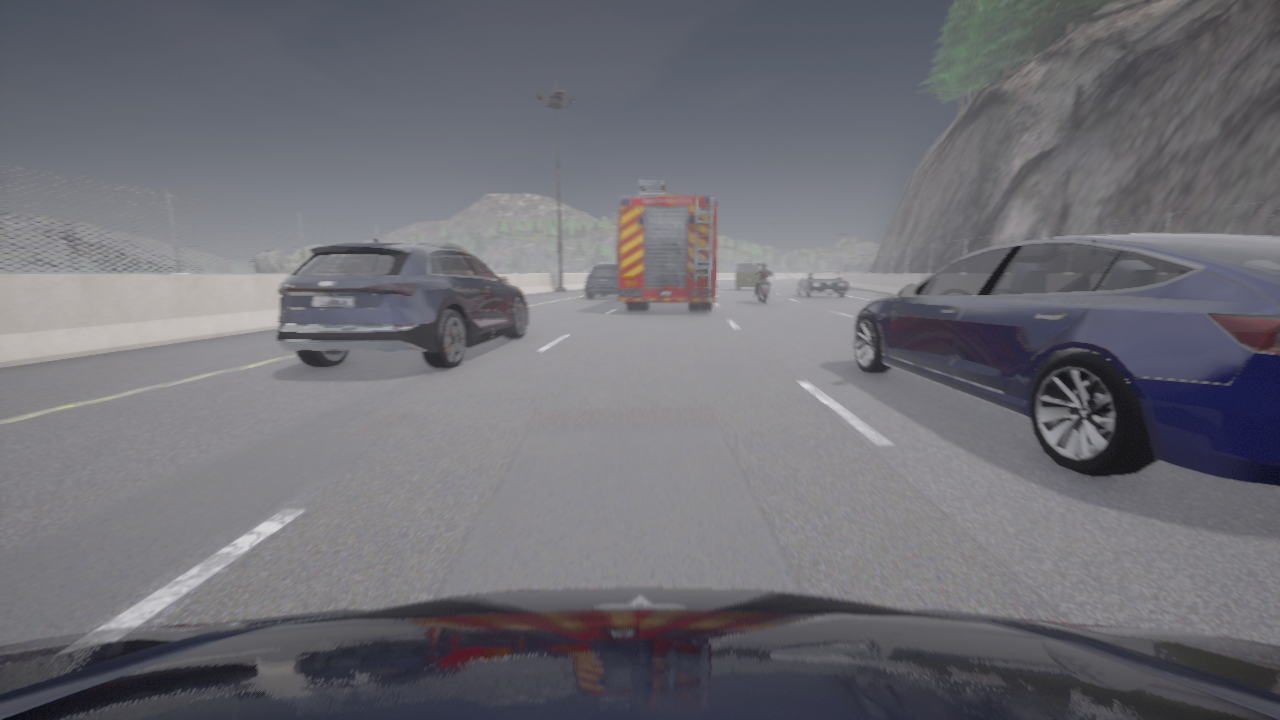cyclist: (0, 588, 1279, 719), (854, 233, 1279, 486), (276, 237, 528, 368), (618, 180, 717, 310), (796, 271, 849, 297), (585, 264, 617, 298), (736, 262, 760, 289), (757, 275, 770, 303)
